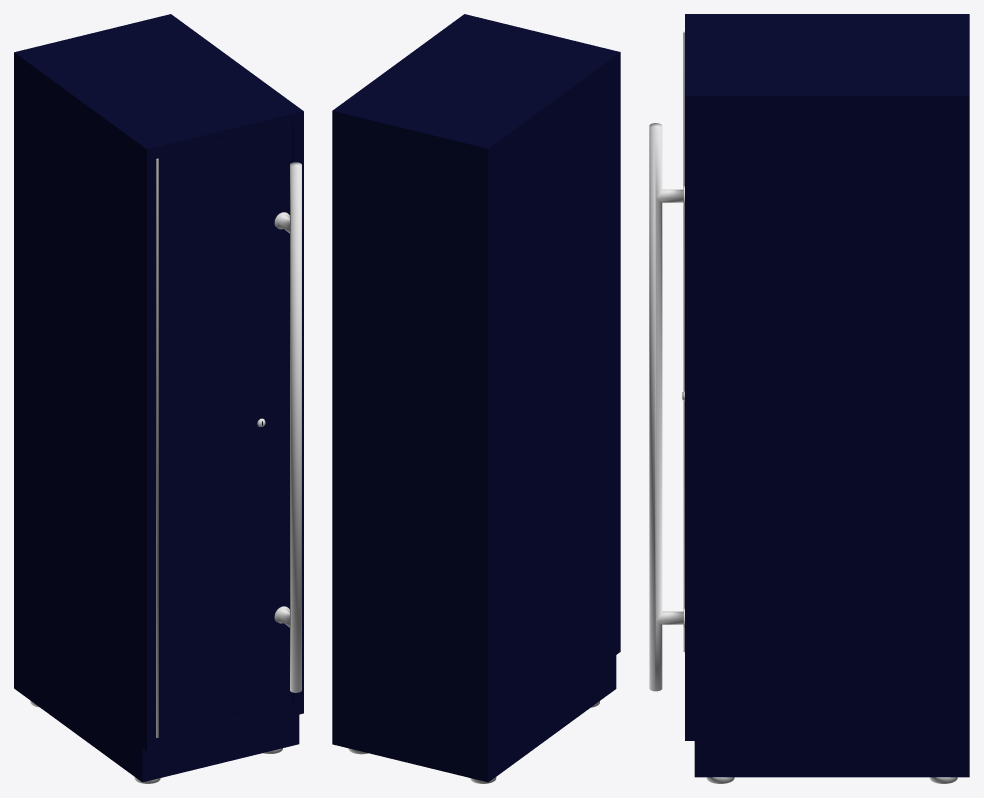
File: pantry.glb
3 views of the same model, side by side, from view 1: azimuth 30°, elevation 25°; view 2: azimuth 150°, elevation 25°; view 3: azimuth 270°, elevation 25° (orthographic). The views are drawn at different scales.
Parts seen in each view (by area): view 1: baseShell, doors, handles, hinge; view 2: baseShell; view 3: baseShell, handles, hinge.
Part boxes in pixels (x1,y1,x2,y2): baseShell: (14,14,303,782); doors: (157,125,292,736); handles: (274,162,301,692); hinge: (156,159,158,737); baseShell: (332,14,620,782); baseShell: (685,14,969,778); handles: (649,123,684,691); hinge: (683,32,684,652).
Size of the model in its own units: 0.381 by 1.5 by 0.6287.
